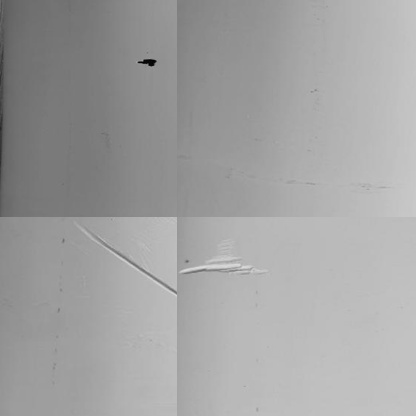kongdong: (137, 58, 158, 68)
sunshang: (72, 219, 173, 297), (179, 235, 265, 280)
